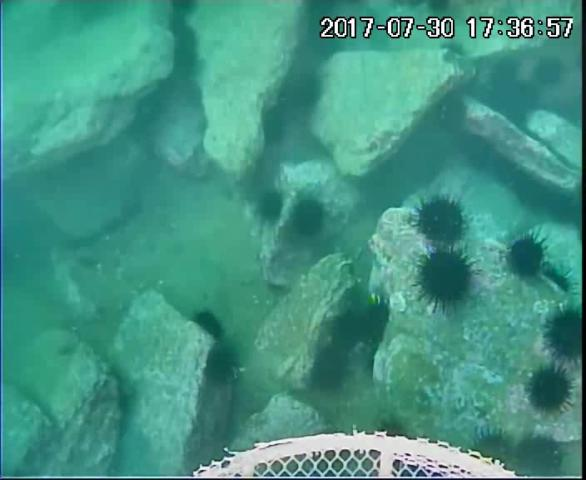echinus: (413, 250, 475, 309), (526, 363, 577, 419), (415, 197, 468, 247), (544, 308, 586, 368), (512, 432, 565, 477), (486, 82, 532, 127), (307, 351, 351, 394), (280, 67, 322, 112), (470, 426, 512, 468), (356, 303, 395, 348), (289, 199, 330, 240), (508, 235, 547, 278), (434, 90, 470, 136), (543, 183, 579, 224), (205, 345, 238, 388), (194, 309, 230, 348), (330, 312, 364, 353), (514, 169, 545, 212), (460, 135, 492, 171), (261, 110, 290, 147), (256, 191, 286, 226), (533, 55, 564, 88), (490, 154, 516, 189), (491, 60, 520, 90)
